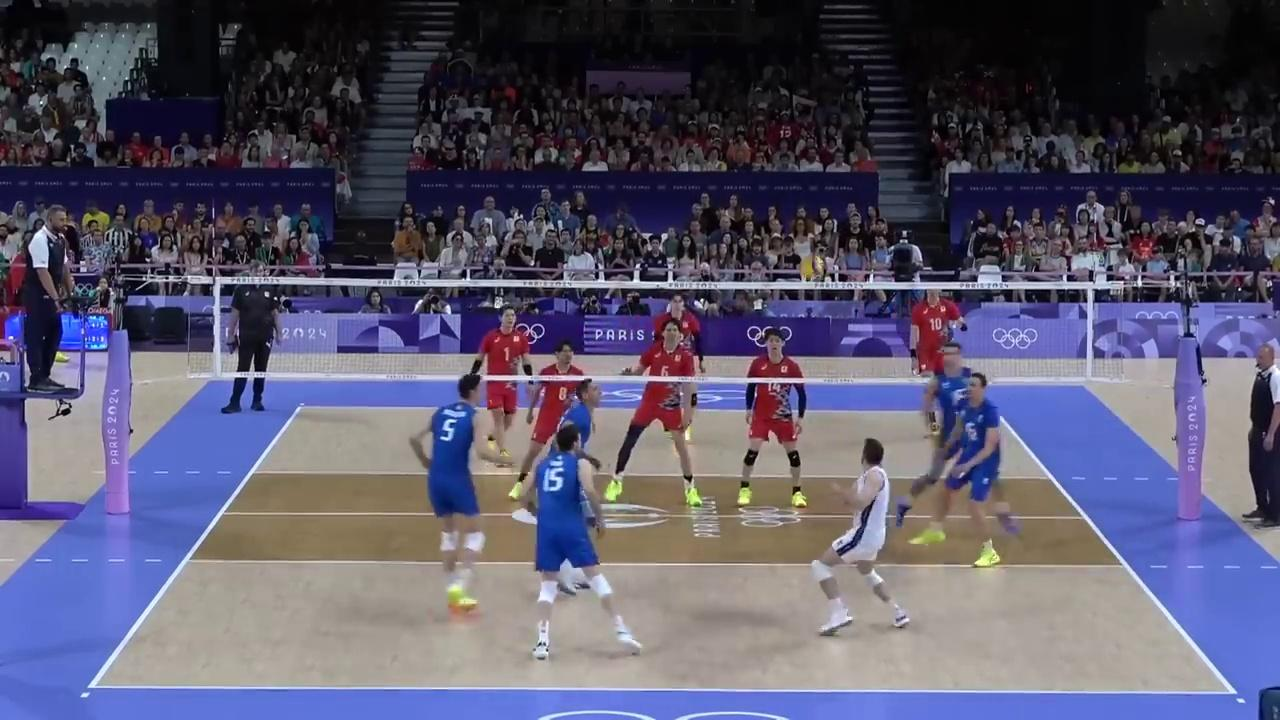ball: (800, 256, 825, 280)
